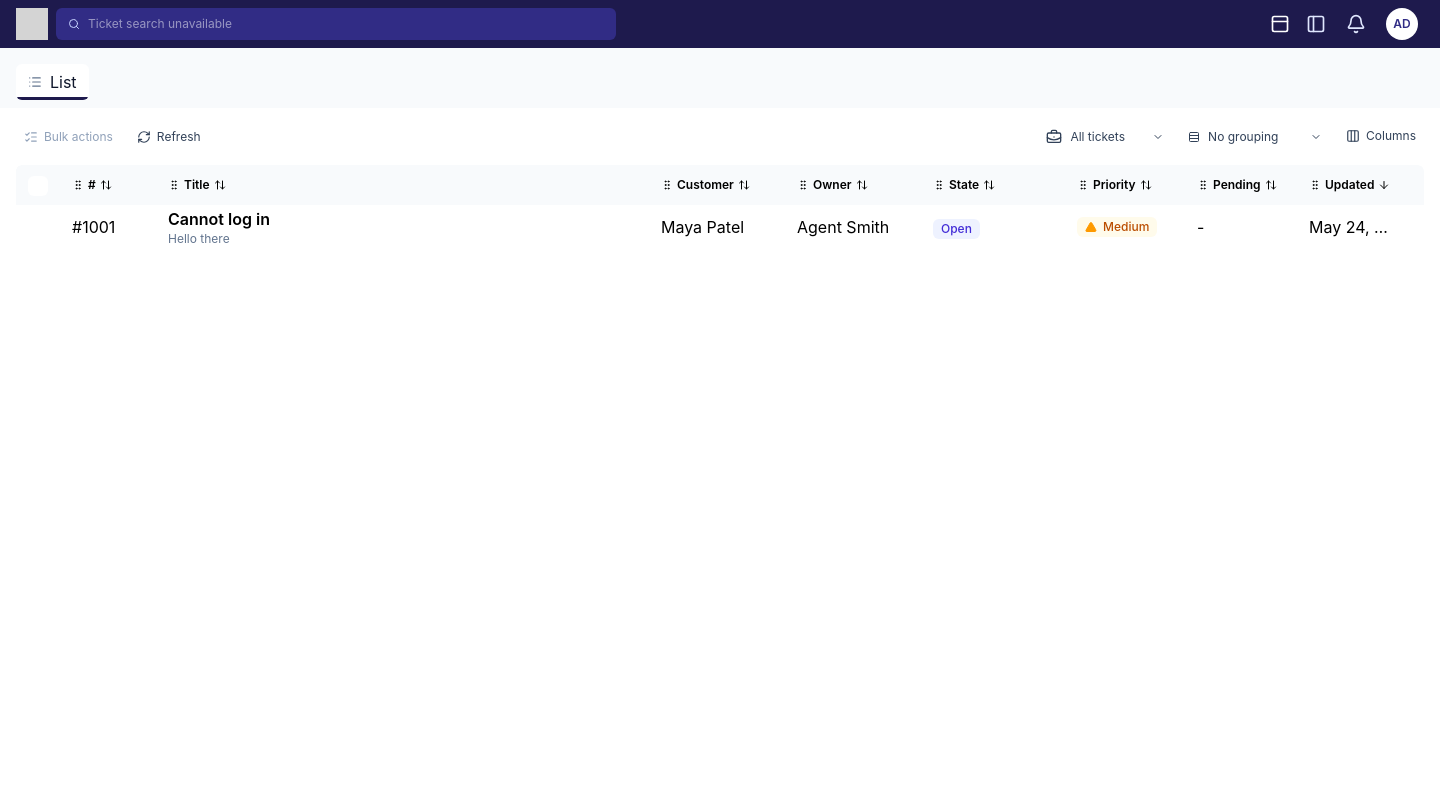
Test: TicketWorkspace AI settings active workspace switch › reloads AI settings after changing the active workspace in settings
What coordinates should you click on to do the following:
click the button with aria-label "Open profile menu, Support"
I would click on:
 (1402, 24)
Its box is [1380,4,1424,44].
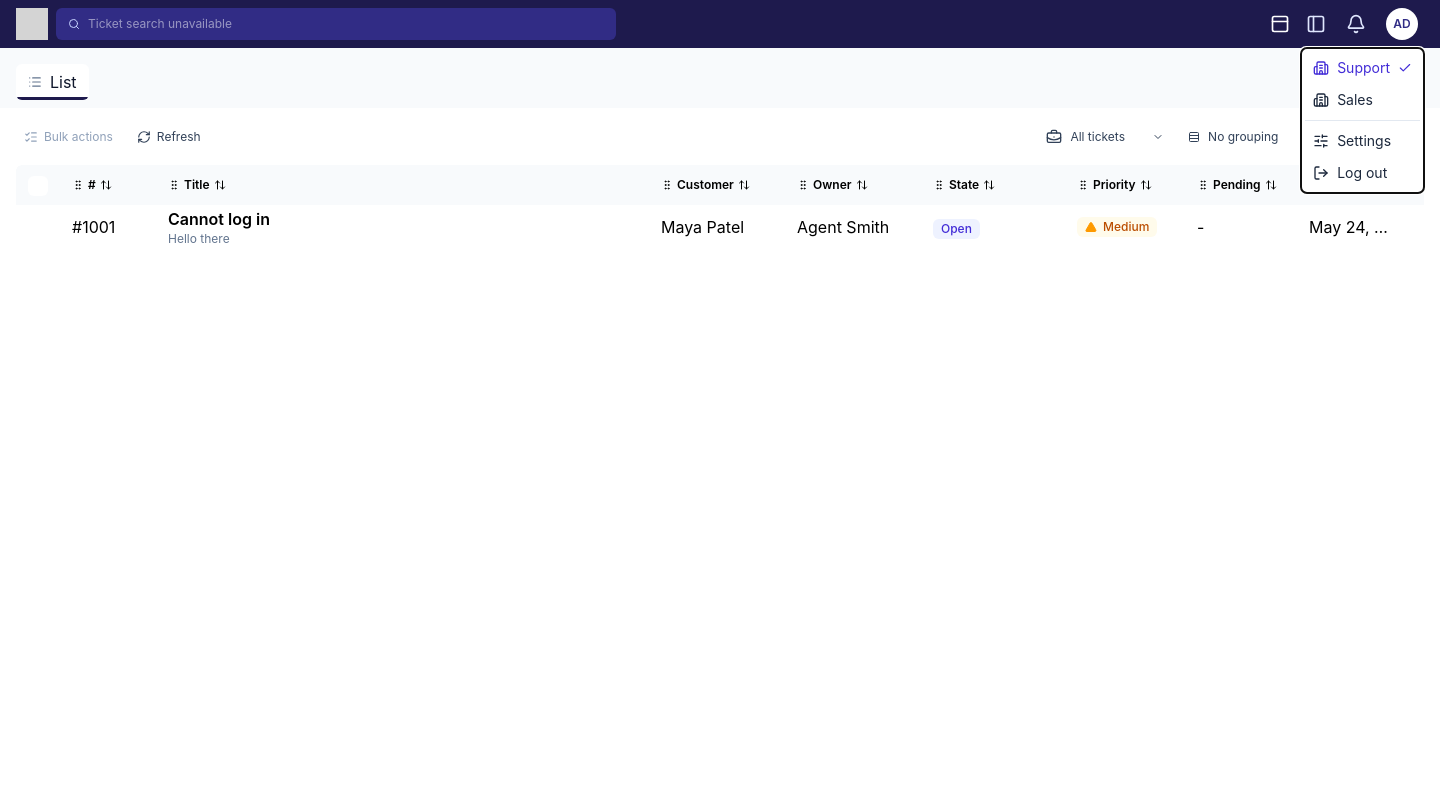
What coordinates should you click on to do the following:
click the menu item "Settings"
I would click on:
 (1363, 141)
Its box is [1305,125,1420,157].
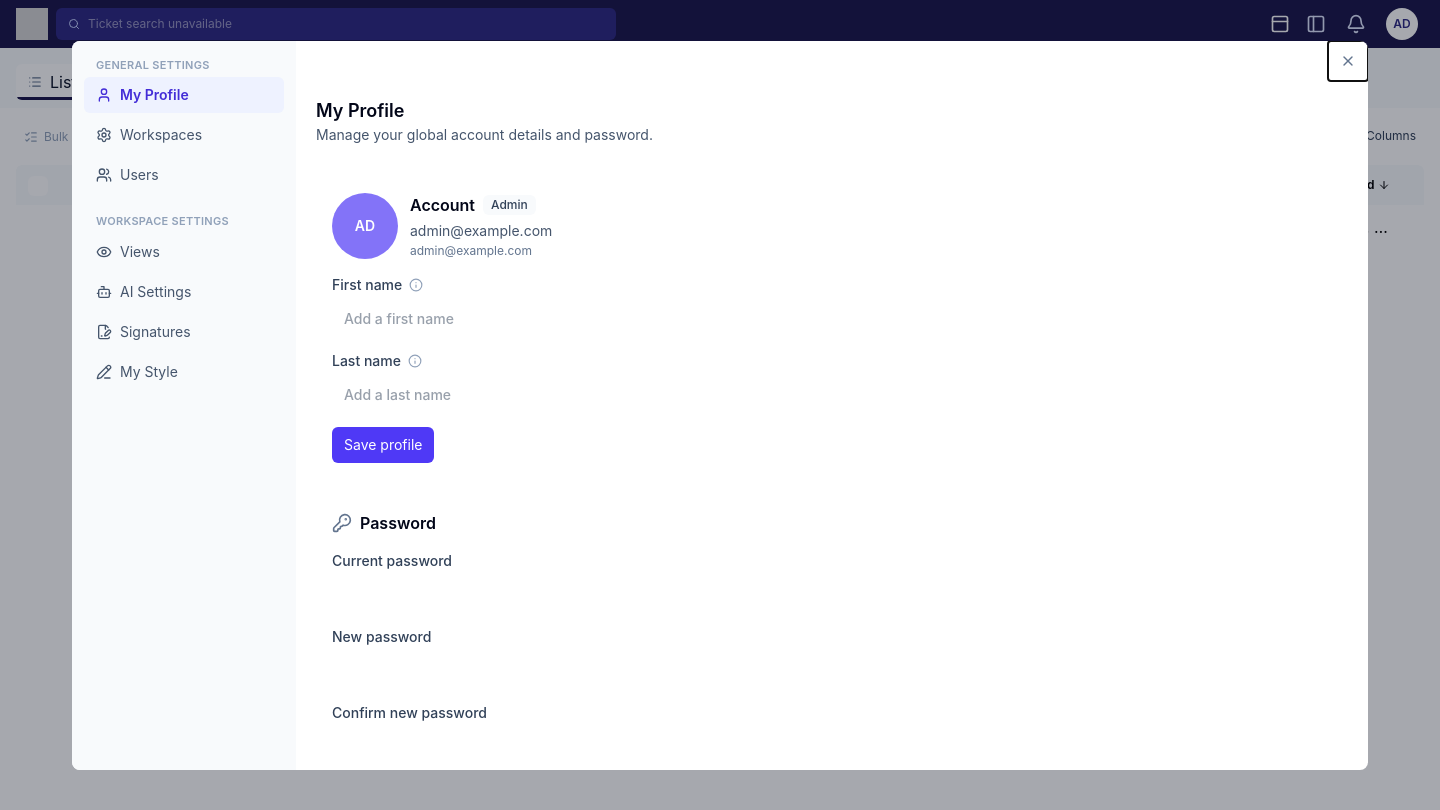
What coordinates should you click on to do the following:
click the button "AI Settings"
I would click on:
 (184, 292)
Its box is [84,274,284,310].
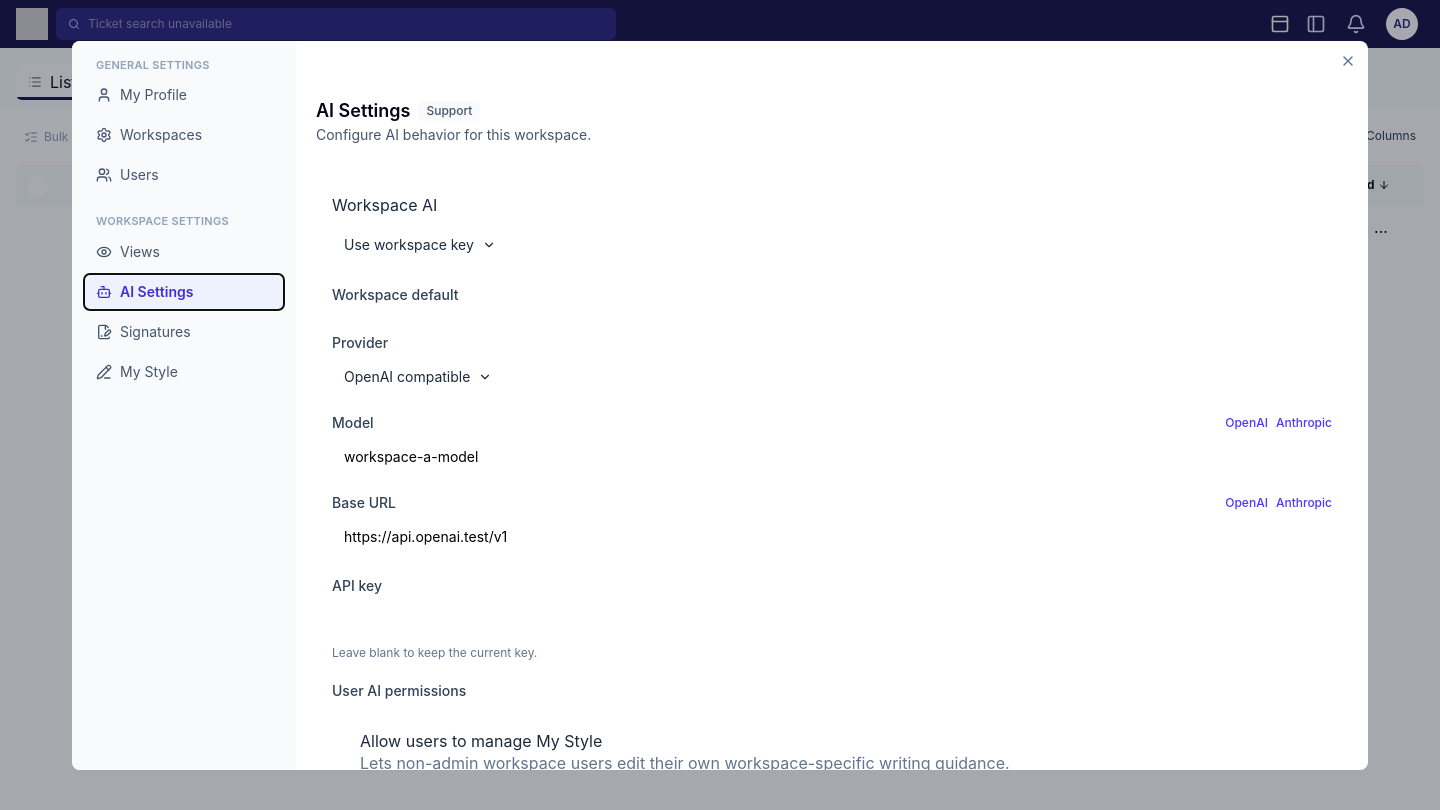
Result: the text "Support" is shown at [418,100,480,120]
Result: the field showing "workspace-a-model" is shown at [332,436,1332,476]
What coordinates should you click on to do the following:
click the button "Workspaces"
I would click on:
 (184, 135)
Its box is [84,117,284,153].
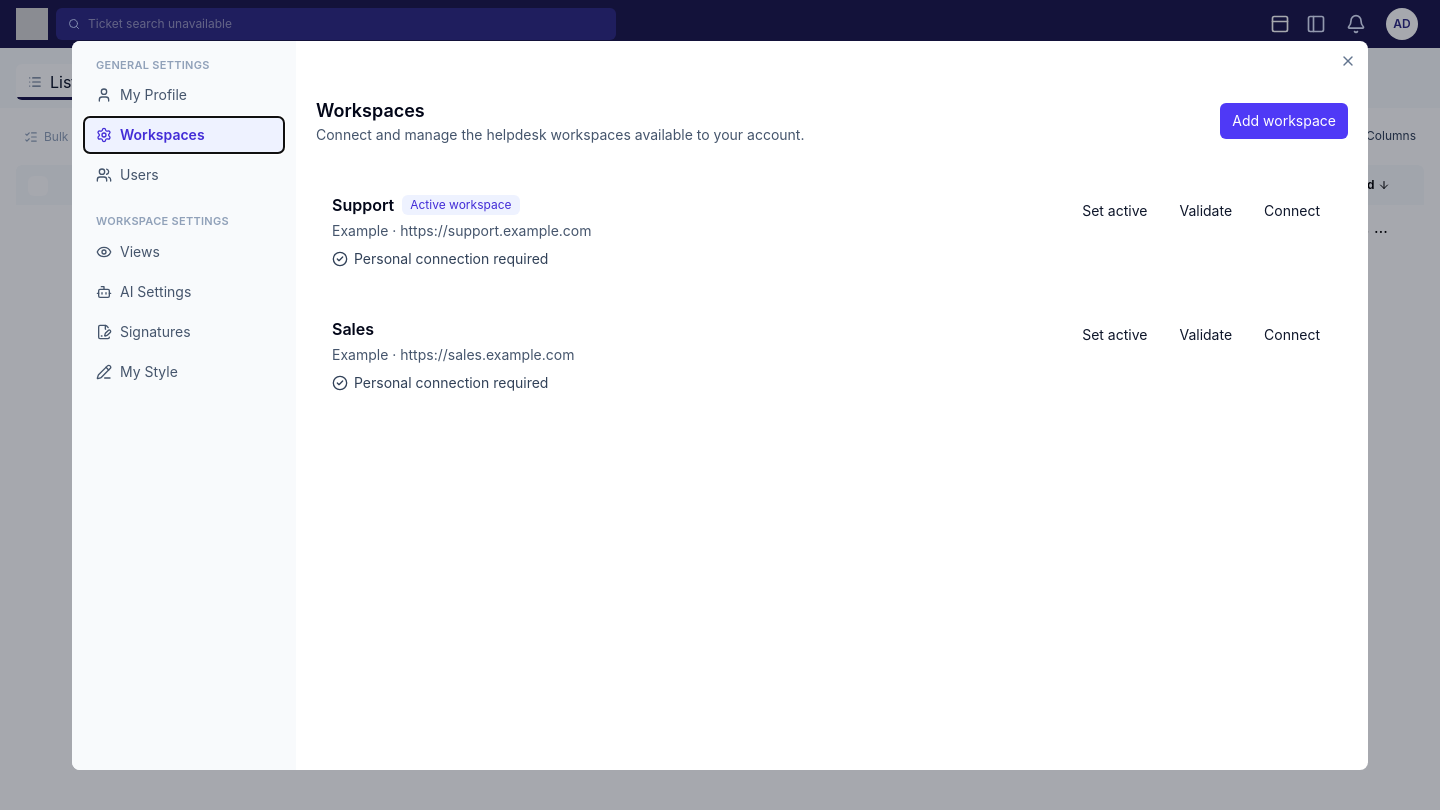
Result: the text "Sales" is shown at [332,318,374,338]
What coordinates should you click on to do the following:
click the button "Set active" in the row of "https://sales.example.com"
I would click on:
 (1115, 334)
Its box is [1070,316,1160,352].
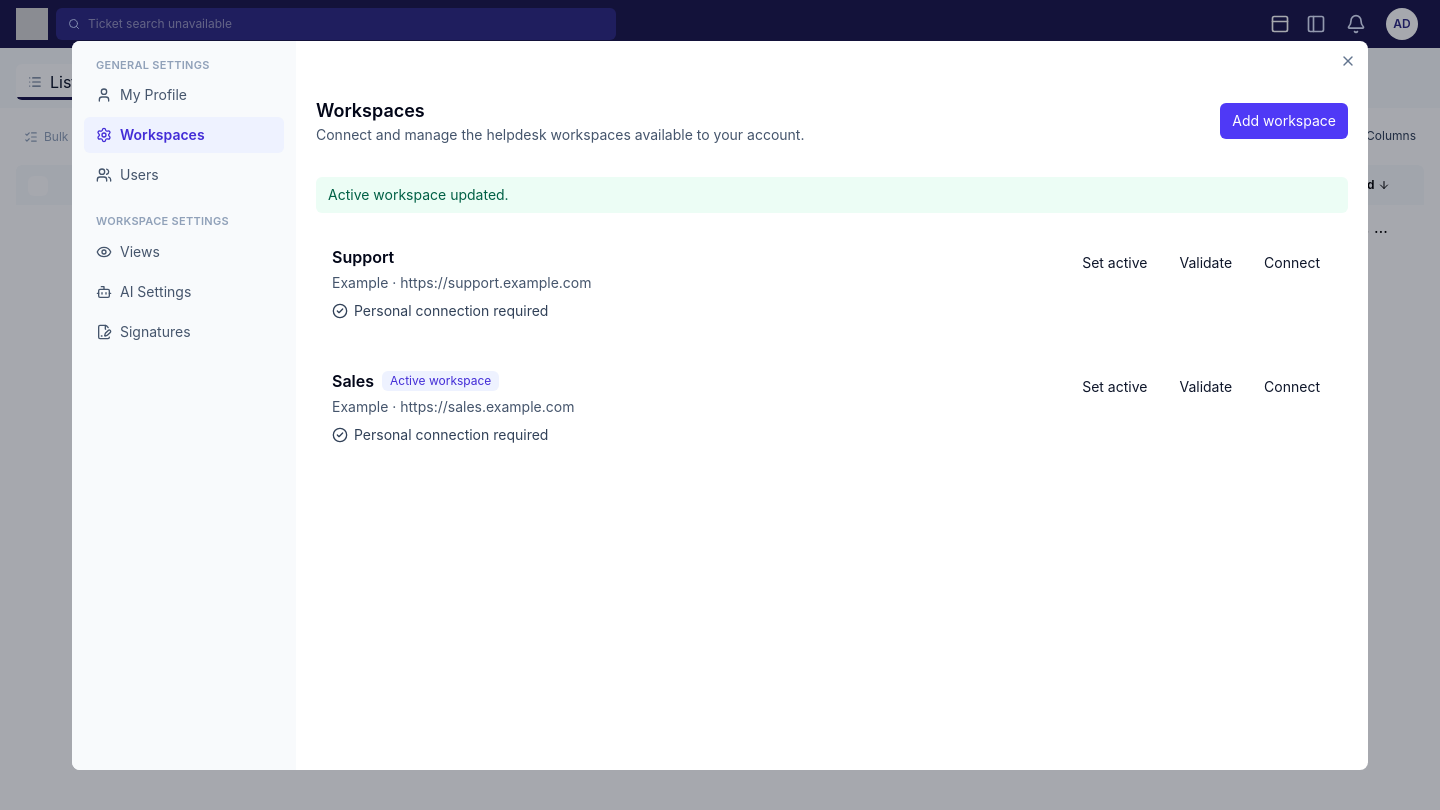
What coordinates should you click on to do the following:
click the button "AI Settings"
I would click on:
 (184, 292)
Its box is [84,274,284,310].
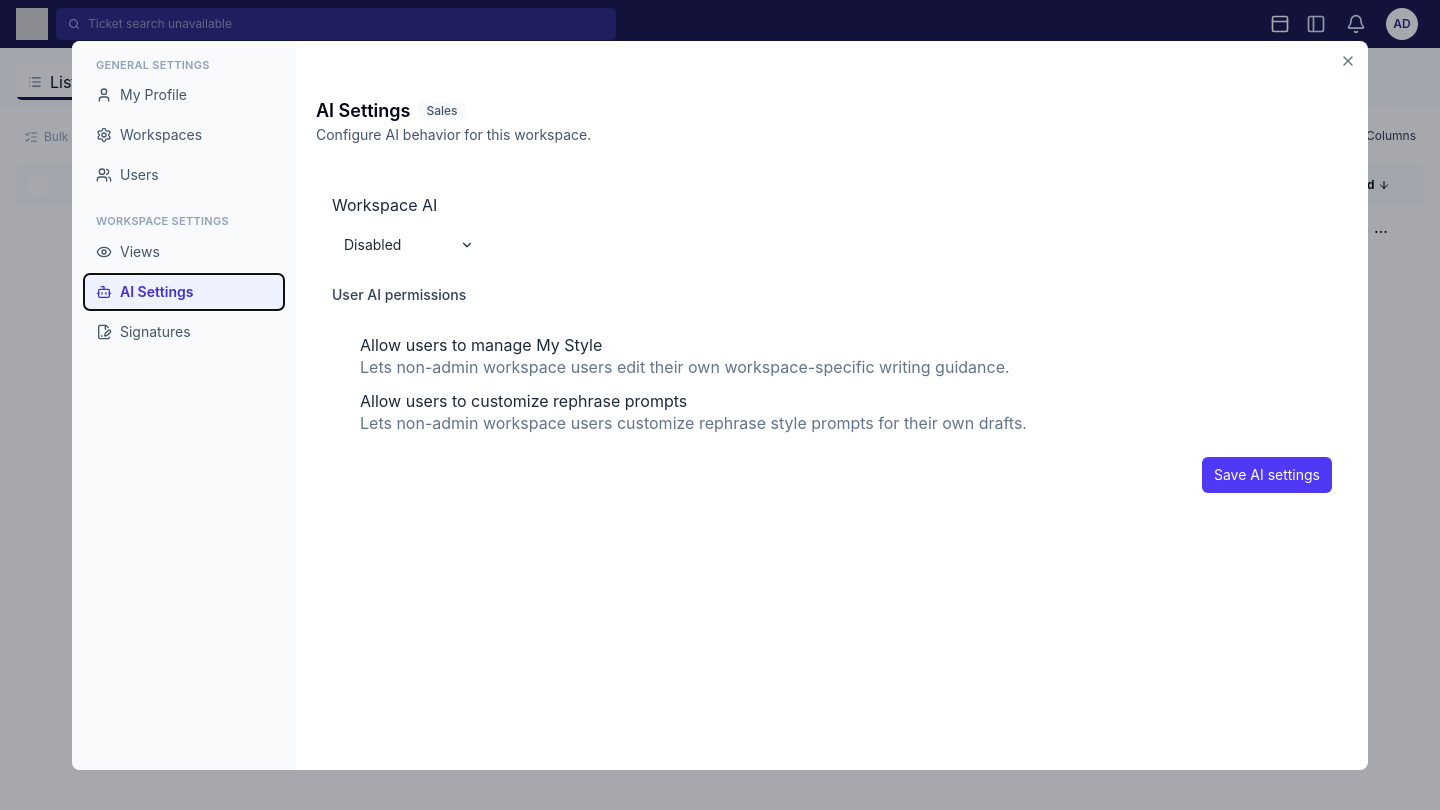
Expected: the field showing "workspace-a-model" is not shown
Result: the text "Sales" is shown at [418,100,466,120]
